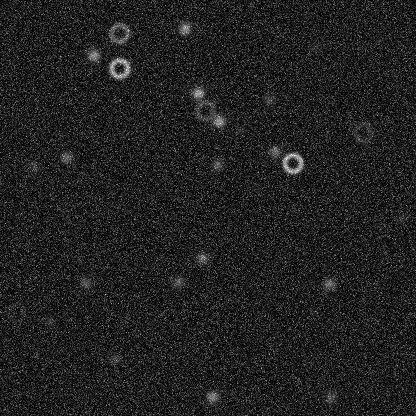Ring: (351, 120, 375, 144), (3, 300, 27, 324), (193, 98, 217, 122), (107, 21, 131, 45), (107, 56, 131, 80), (280, 151, 304, 175)
Spot: (204, 388, 220, 404), (261, 91, 277, 107), (266, 143, 282, 159), (190, 85, 206, 101), (176, 20, 192, 36), (77, 275, 93, 291), (208, 156, 224, 172), (392, 209, 408, 225), (25, 158, 41, 174), (106, 350, 122, 366), (85, 47, 101, 63), (233, 122, 249, 138), (170, 273, 186, 289), (322, 389, 338, 405), (58, 148, 74, 164), (306, 38, 322, 54), (321, 276, 337, 292), (194, 250, 210, 266), (41, 313, 57, 329), (211, 113, 227, 129)
